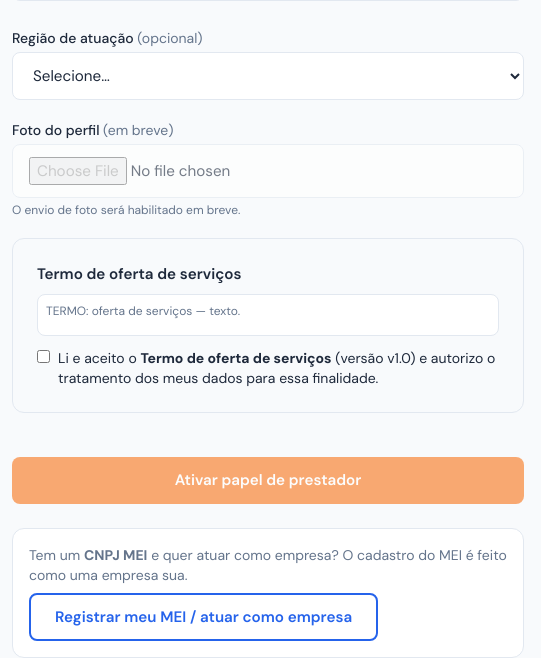
Test: USP-010 #116 — ProviderForm › exige campos de perfil faltantes (telefone) antes de ativar
(page scrolled)
Click the checkbox at (44, 357), box [37, 350, 50, 363]
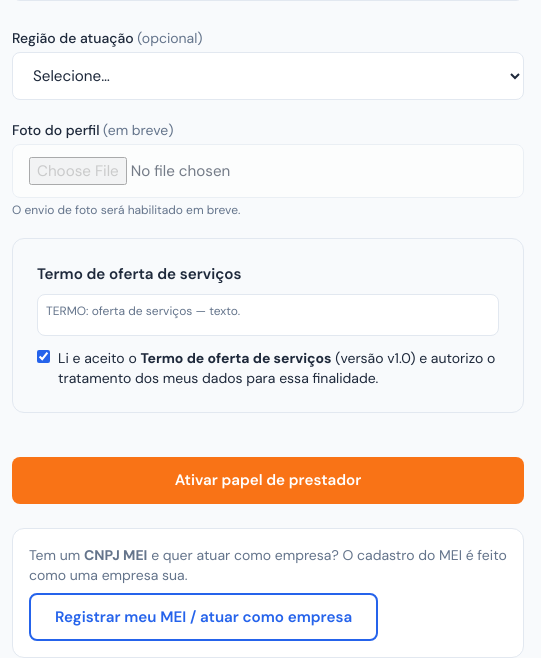
Click the button "Ativar papel de prestador" at (268, 481), box [12, 457, 524, 504]
(page scrolled)
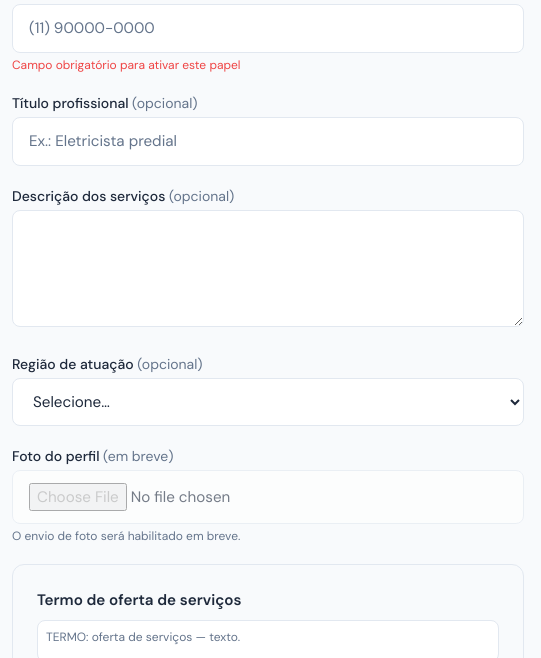
Now the text "Campo obrigatório para ativar este papel" is shown, box [12, 57, 240, 73]
